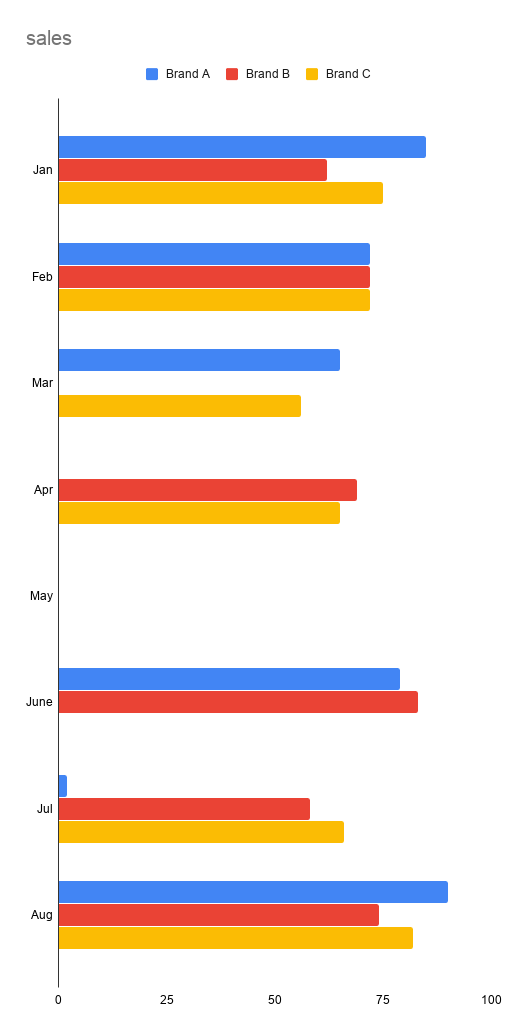canvas: (56, 123, 463, 966)
legend: (141, 54, 375, 91)
title: (22, 26, 78, 57)
x-labels: (36, 984, 517, 1021)
y-labels: (20, 152, 56, 929)
